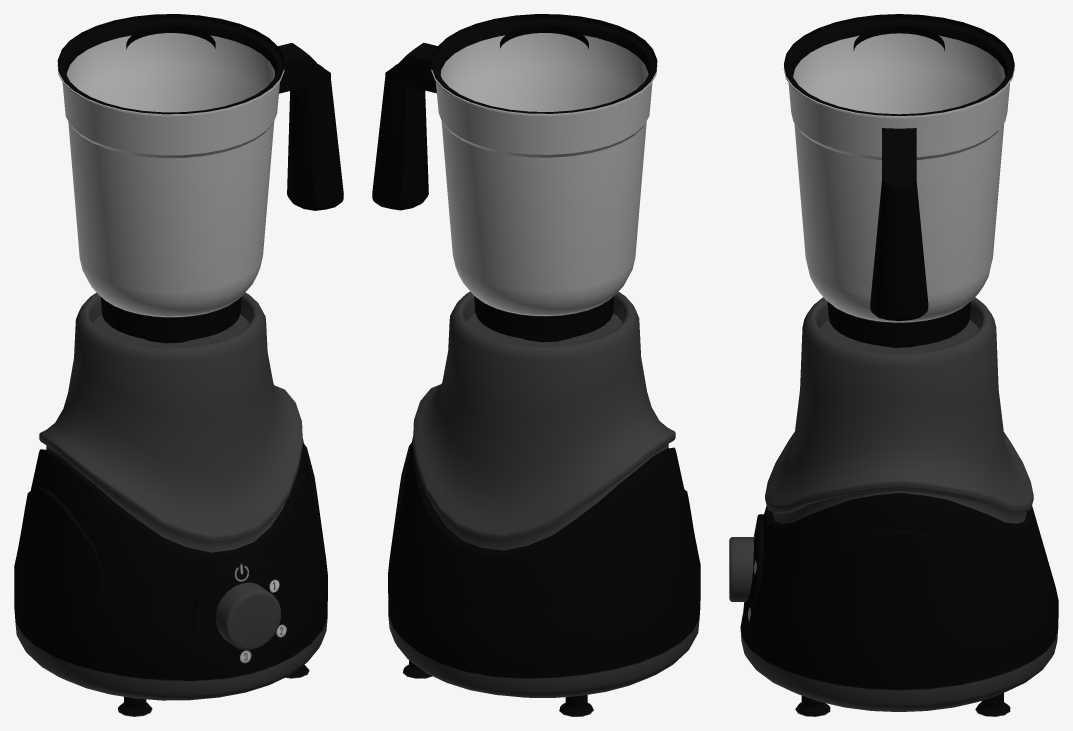
Rendered from 1712384765359mixer.glb.
3 views of the same model, side by side, from view 1: azimuth 30°, elevation 25°; view 2: azimuth 150°, elevation 25°; view 3: azimuth 270°, elevation 25° (orthographic). The views are drawn at different scales.
Parts seen in each view (by area): view 1: Cylinder, Cylinder.009, Cube, Cylinder.007, Cylinder.001, Cylinder.003; view 2: Cylinder, Cylinder.009, Cube, Cylinder.007, Cylinder.003; view 3: Cylinder, Cylinder.009, Cube, Cylinder.007, Cylinder.001, Cylinder.003.
Boxes of the visible parts, <box> form: Cylinder: <box>14,292,327,700</box>; Cylinder.009: <box>57,33,284,341</box>; Cube: <box>278,43,343,210</box>; Cylinder.007: <box>57,14,284,114</box>; Cylinder.001: <box>215,582,280,650</box>; Cylinder.003: <box>117,665,309,716</box>; Cylinder: <box>388,291,700,697</box>; Cylinder.009: <box>431,33,657,339</box>; Cube: <box>372,42,437,210</box>; Cylinder.007: <box>431,14,657,113</box>; Cylinder.003: <box>403,660,593,716</box>; Cylinder: <box>740,297,1058,711</box>; Cylinder.009: <box>783,33,1014,346</box>; Cube: <box>870,128,928,320</box>; Cylinder.007: <box>784,14,1014,116</box>; Cylinder.001: <box>729,537,753,601</box>; Cylinder.003: <box>795,693,1010,716</box>.
Size of the model in its own units: 1.66 by 3.2 by 1.53.
Materials: 2 (2 with a texture image).
